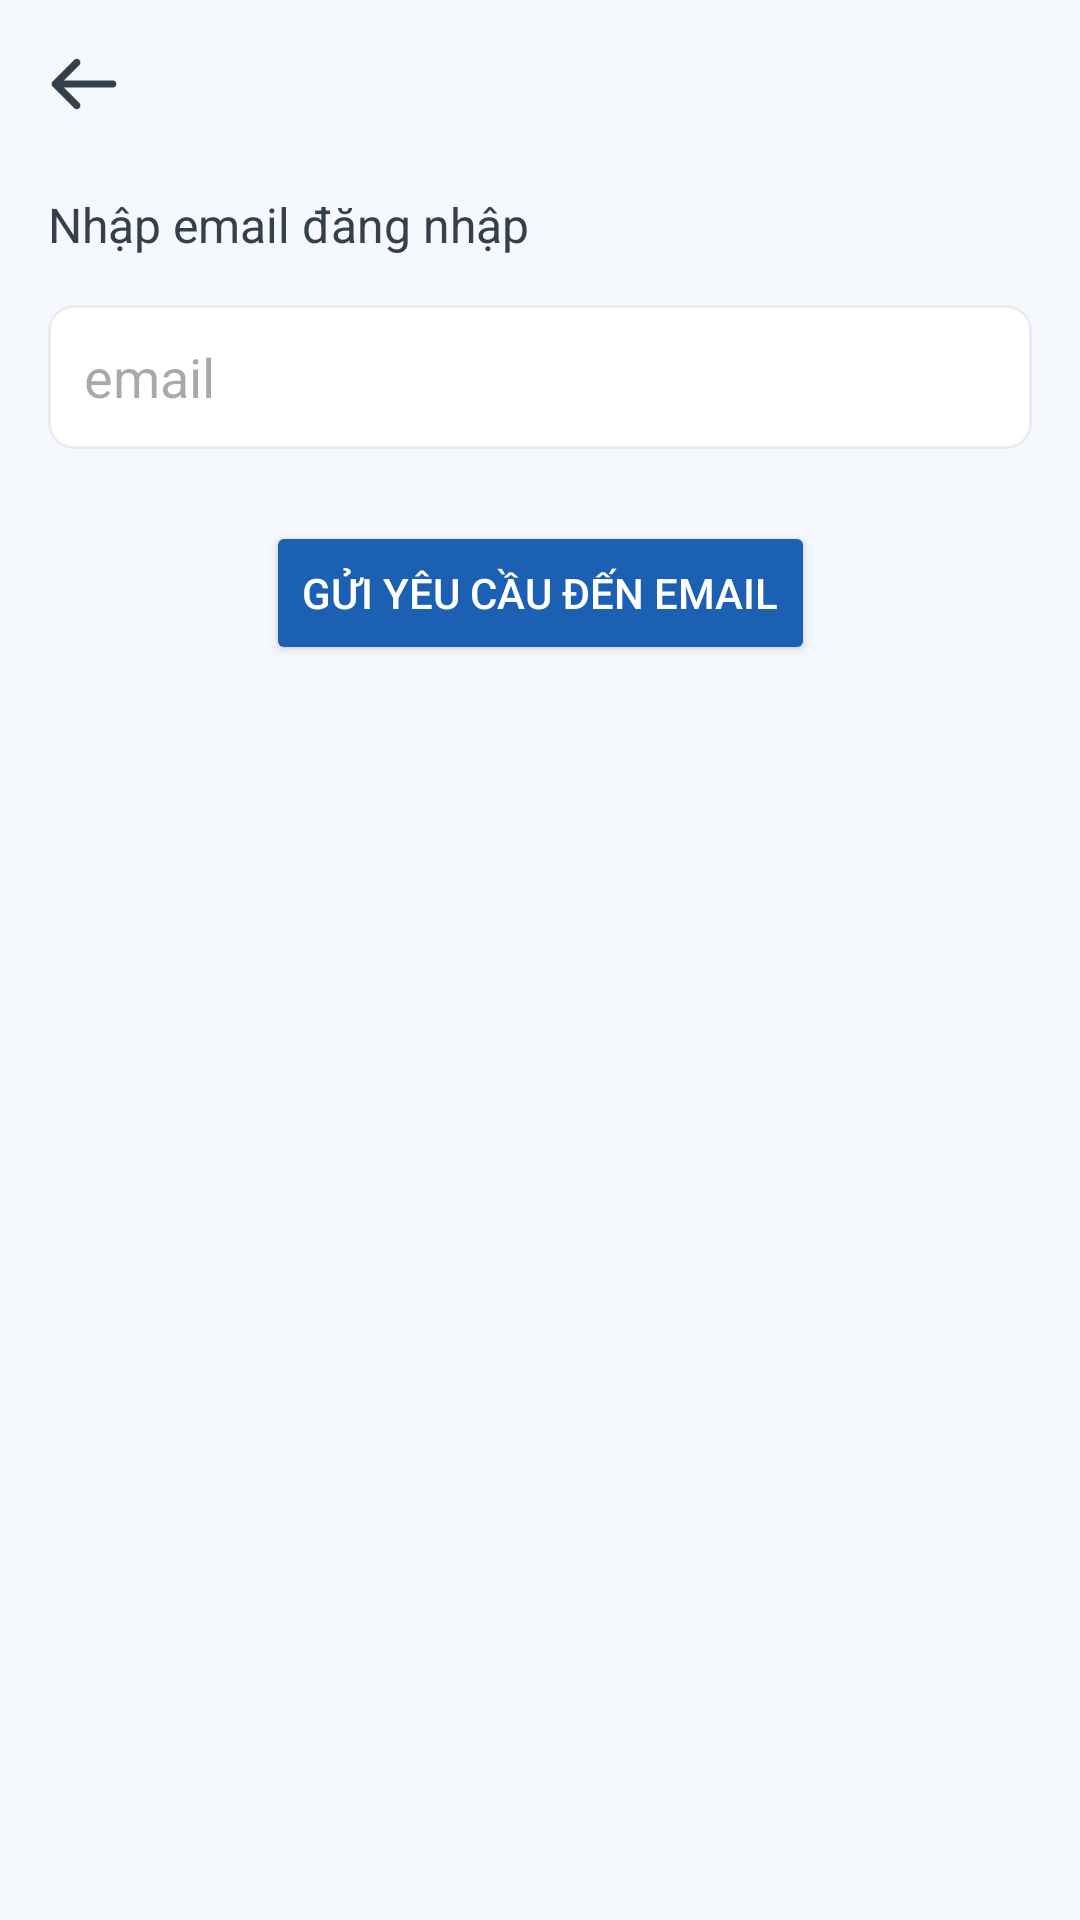

Icons on this 1080px×1920px Android screen, each with its box as (x1, y1, x2, y2):
uiv back: (51, 59, 117, 109)
